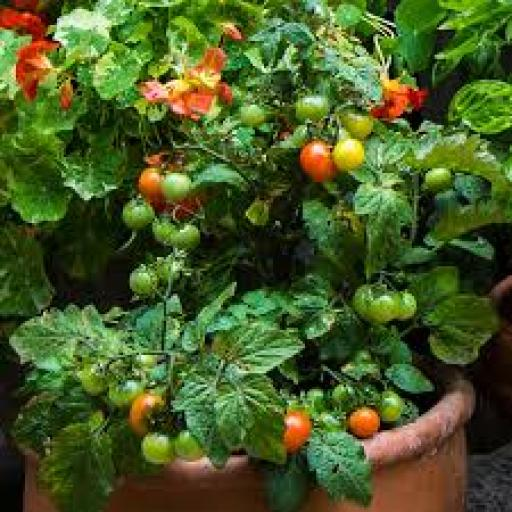tomato: (301, 142, 336, 182), (130, 394, 163, 436), (300, 146, 333, 184), (285, 410, 311, 452), (142, 433, 175, 464), (333, 139, 364, 172), (365, 294, 398, 325), (349, 408, 380, 439), (107, 381, 143, 407), (173, 431, 204, 461), (162, 173, 193, 202), (130, 267, 159, 298), (378, 390, 405, 423), (123, 201, 154, 229), (296, 96, 329, 122), (78, 365, 106, 395), (167, 196, 202, 220), (354, 408, 380, 440), (342, 112, 373, 138), (139, 169, 163, 202), (171, 224, 200, 250), (337, 141, 363, 169), (378, 394, 405, 420), (155, 258, 182, 284), (424, 169, 452, 193), (353, 285, 373, 318), (239, 105, 268, 127), (153, 219, 177, 245), (280, 126, 309, 147), (305, 387, 327, 414), (396, 292, 416, 320), (333, 383, 354, 407), (319, 412, 341, 432), (135, 355, 159, 368), (353, 349, 373, 364)
